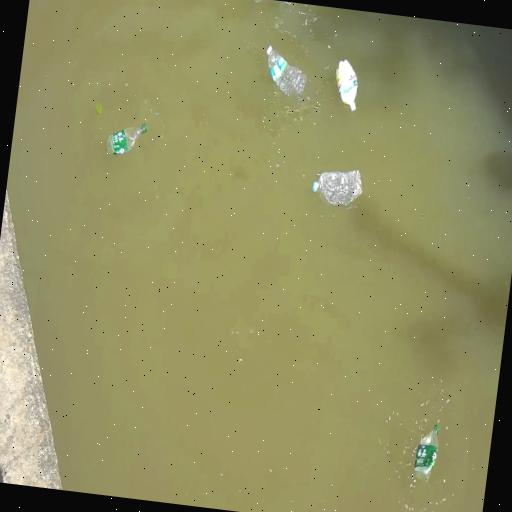plastic: (266, 46, 305, 99), (312, 170, 361, 205), (106, 120, 146, 157), (413, 425, 438, 479), (335, 60, 357, 111)
